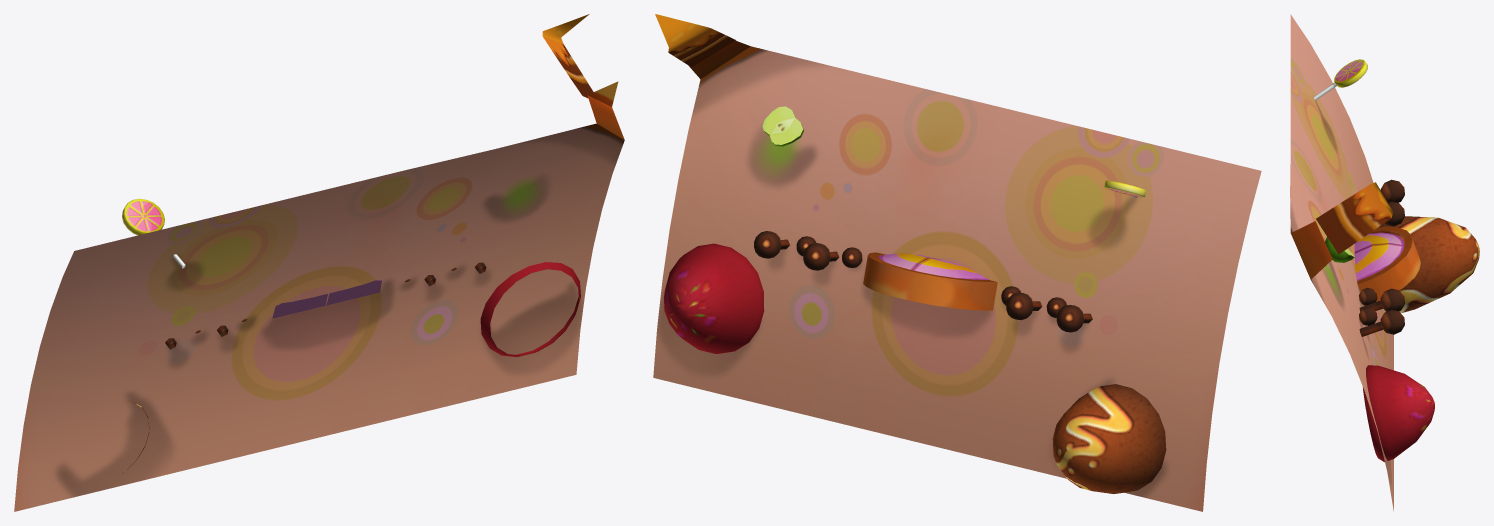
File: seg3.fbx
3 views of the same model, side by side, from view 1: azimuth 30°, elevation 25°; view 2: azimuth 150°, elevation 25°; view 3: azimuth 270°, elevation 25° (orthographic). The views are drawn at different scales.
Parts seen in each view (by area): view 1: seg3; view 2: seg3; view 3: seg3.
Part boxes in pixels (<box>): seg3: <box>14,14,624,511</box>; seg3: <box>653,14,1261,511</box>; seg3: <box>1290,14,1479,511</box>.
Size of the model in its own units: 84.46 by 51.88 by 28.44.
2 materials, 2 textured.
